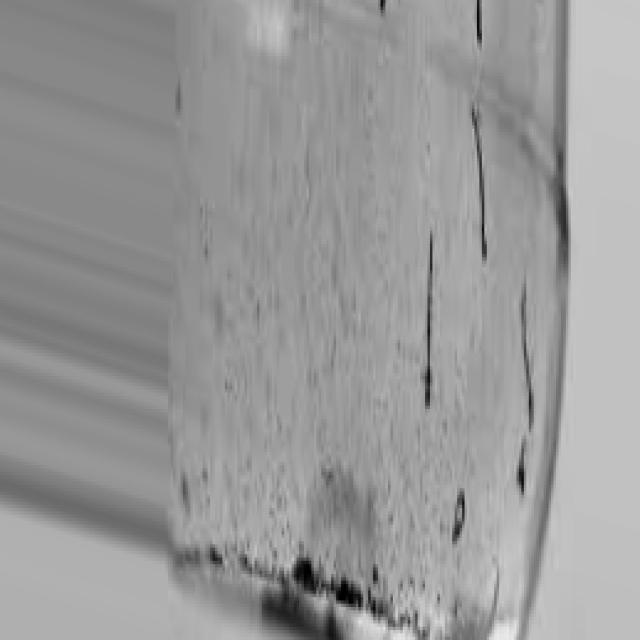larvas: (472, 105, 488, 261), (521, 289, 536, 428), (424, 228, 435, 408), (486, 570, 499, 640), (452, 491, 467, 540), (516, 442, 526, 494), (475, 0, 483, 46)
